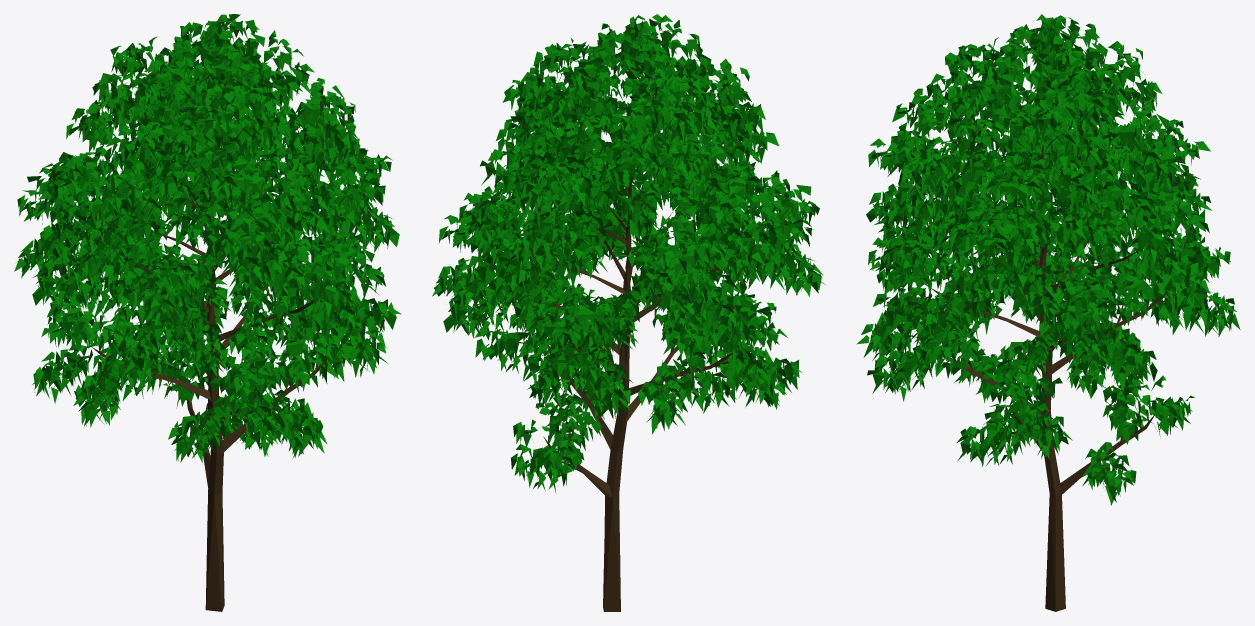
Rendered from birch_tree.dae.
The picture shows the model from 3 angles, left to right: view 1: azimuth 30°, elevation 25°; view 2: azimuth 150°, elevation 25°; view 3: azimuth 270°, elevation 25°; orthographic projection. The views are drawn at different scales.
Visible parts, largest first — view 1: Tree.Birch_sub02; view 2: Tree.Birch_sub02; view 3: Tree.Birch_sub02.
Part boxes in pixels (x1,y1,x2,y2): Tree.Birch_sub02: (14,14,401,611); Tree.Birch_sub02: (432,14,825,611); Tree.Birch_sub02: (856,14,1240,611).
Bounding box in the file's own units: 2.39 × 2.36 × 3.92.
